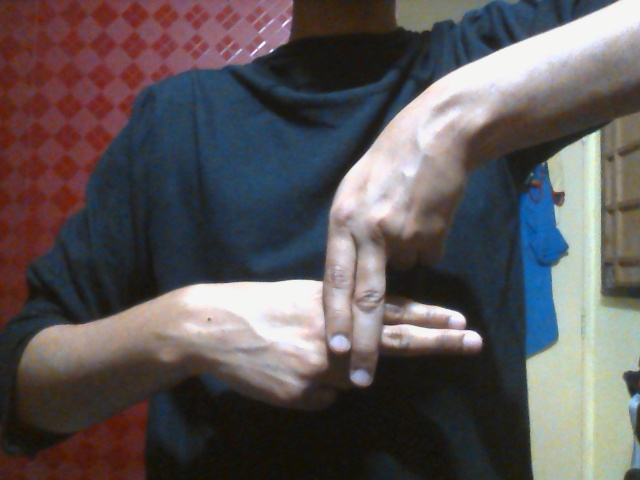F: (194, 117, 484, 415)
